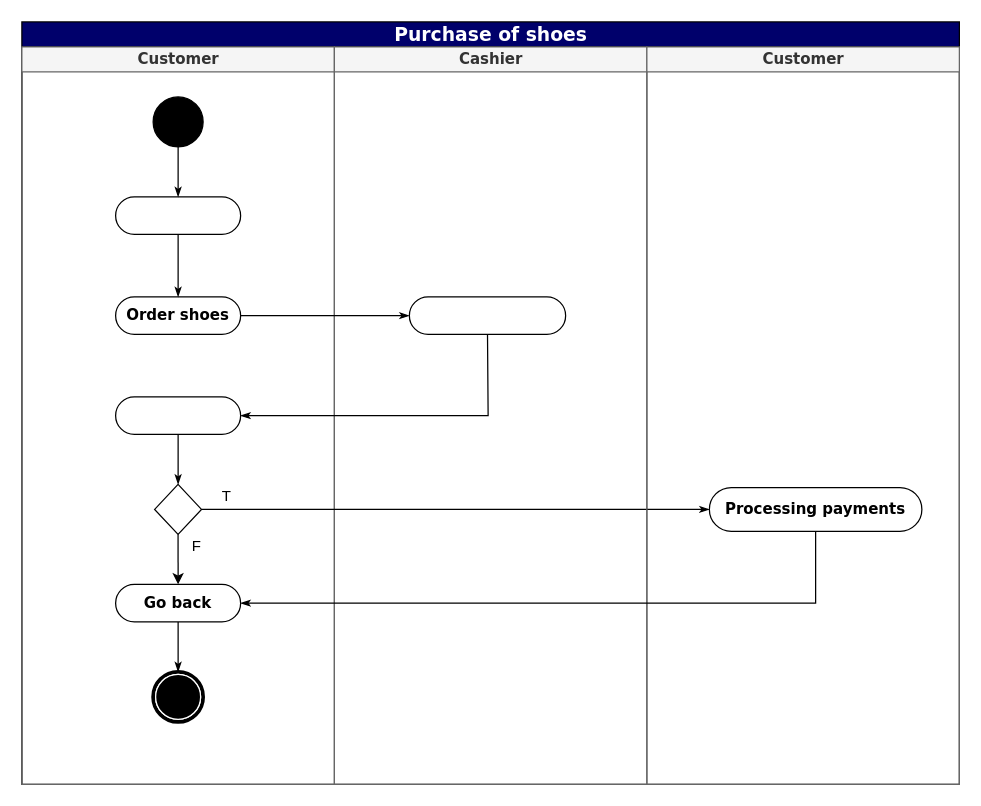
Image size: 981x806. Some labels were removed from this diagram. The shapes that lost their labels are listed below. From the top down, each one's centre as x and y in pixels, then its label:
the point at 177,215: Visit Shop
the point at 487,315: Help customers
the point at 177,415: Get shoes
